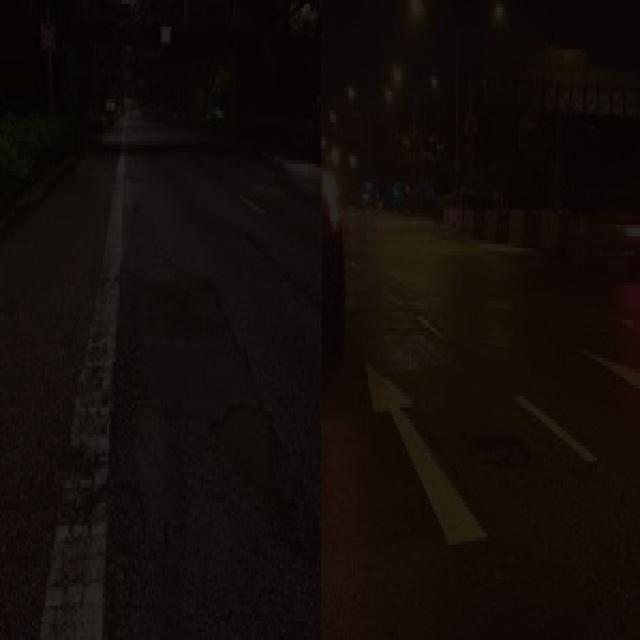Pothole: (188, 399, 292, 503), (452, 426, 552, 471), (169, 277, 233, 338)
